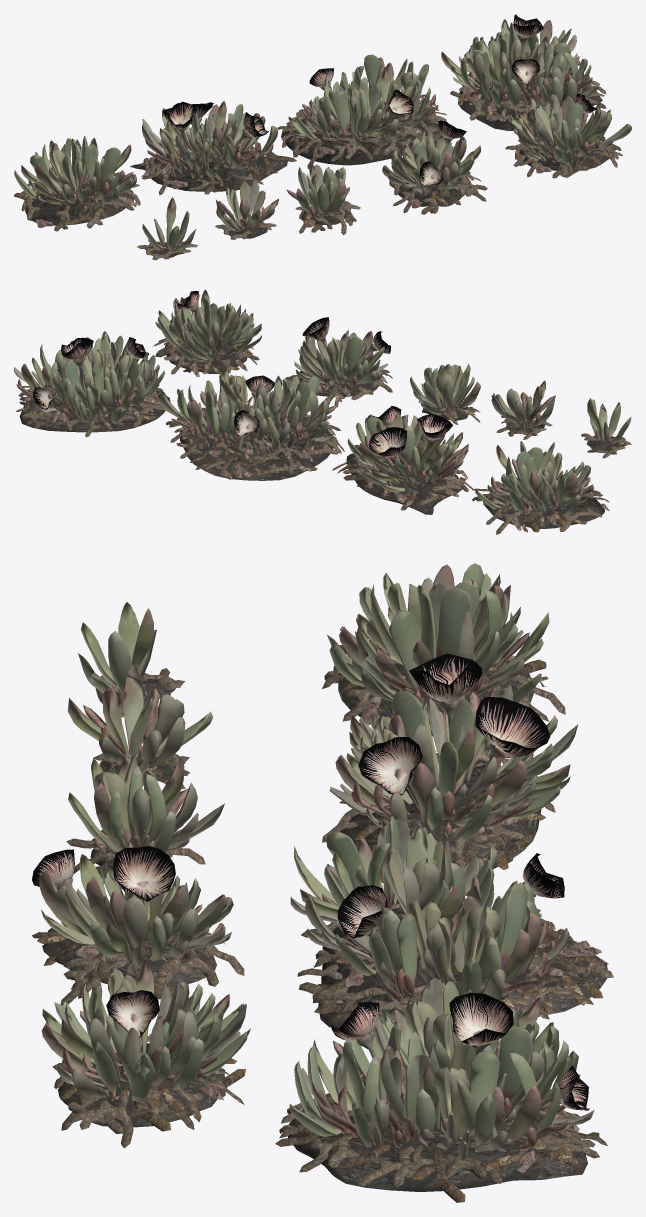
Rendered from cheiridopsis-succulent.glb.
The picture shows the model from 3 angles, top to bottom: view 1: azimuth 30°, elevation 25°; view 2: azimuth 150°, elevation 25°; view 3: azimuth 270°, elevation 25°; orthographic projection. The views are drawn at different scales.
Parts seen in each view (by area): view 1: cheiridopsis_succulent; view 2: cheiridopsis_succulent; view 3: cheiridopsis_succulent.
Part boxes in pixels (left/top/right/bottom): cheiridopsis_succulent: left=14, top=14, right=631, bottom=260; cheiridopsis_succulent: left=14, top=289, right=631, bottom=534; cheiridopsis_succulent: left=32, top=563, right=613, bottom=1202.
Bounding box in the file's own units: 2.16 × 0.2707 × 0.9587.
Materials: 2 (2 with a texture image).
